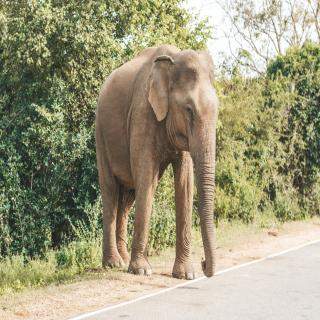Elephant: (86, 38, 236, 282)
